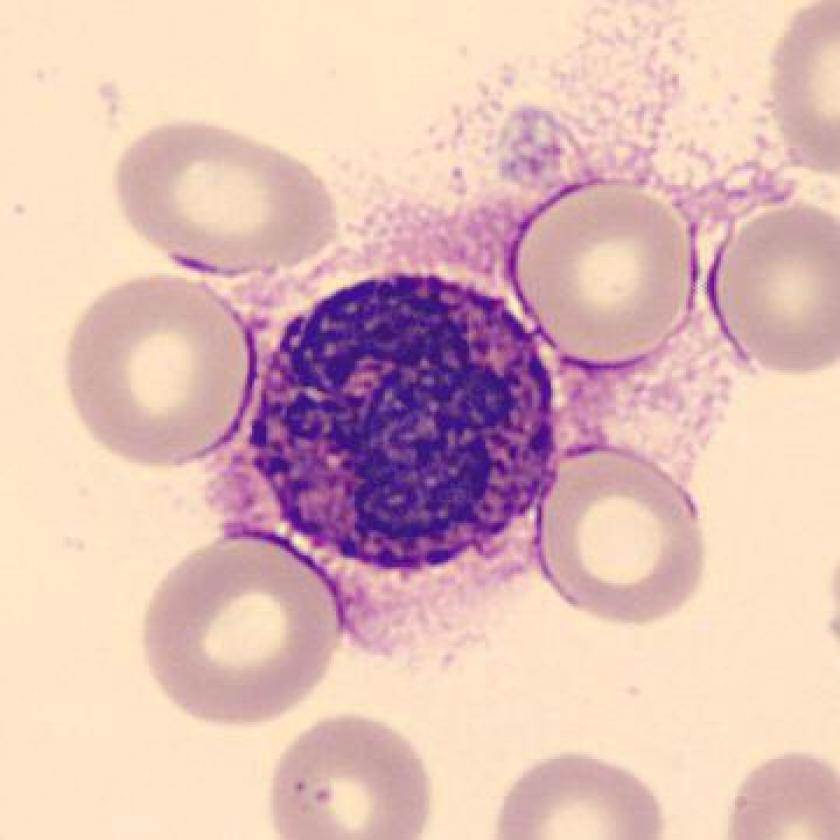basophil: (246, 274, 573, 584)
